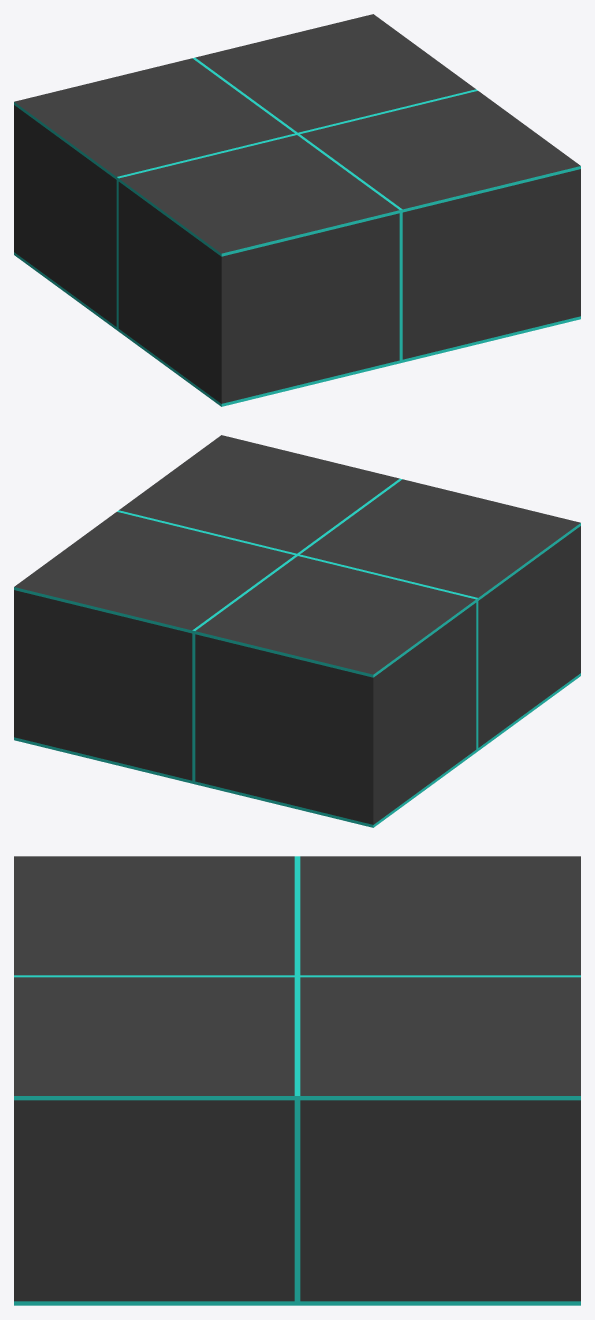
Rendered from enivorment.fbx.
The picture shows the model from 3 angles, top to bottom: view 1: azimuth 30°, elevation 25°; view 2: azimuth 150°, elevation 25°; view 3: azimuth 270°, elevation 25°; orthographic projection. The views are drawn at different scales.
Visible parts, largest first — view 1: Plane; view 2: Plane; view 3: Plane.
Part boxes in pixels (x1,y1,x2,y2): Plane: [14, 14, 580, 406]; Plane: [14, 435, 580, 827]; Plane: [14, 856, 580, 1305].
Size of the model in its own units: 600 by 244 by 600.
